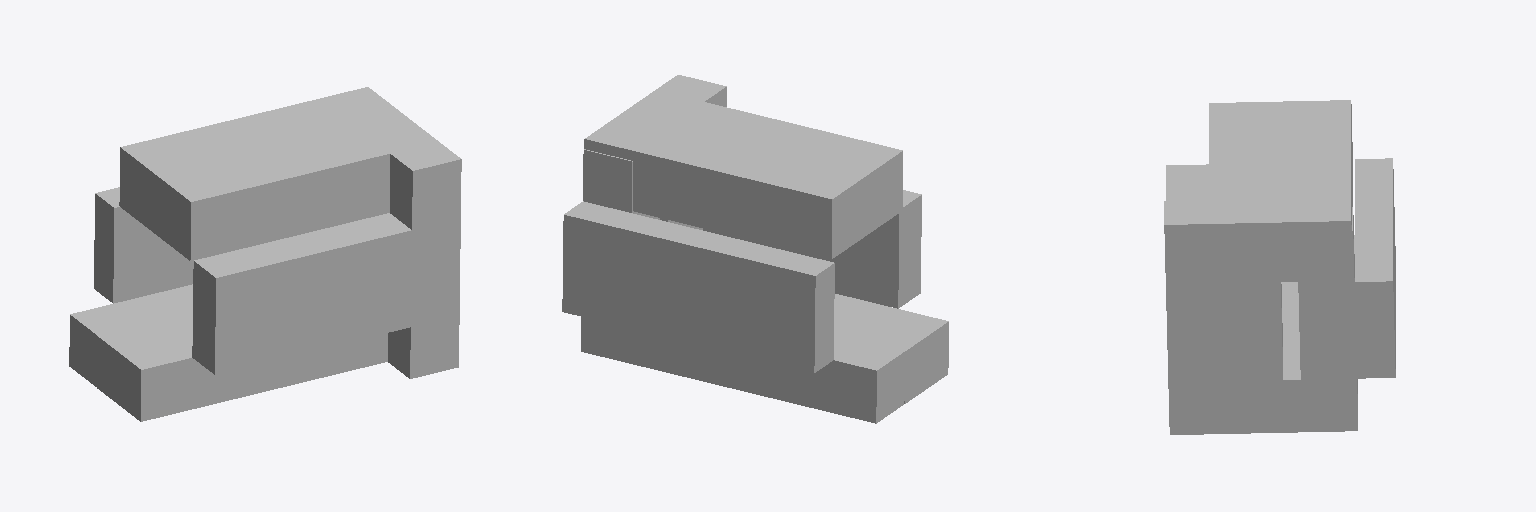
Rendered from dock4_0.obj.
The picture shows the model from 3 angles: view 1: azimuth 30°, elevation 25°; view 2: azimuth 150°, elevation 25°; view 3: azimuth 270°, elevation 25°; orthographic projection.
Parts seen in each view (by area): view 1: Cube; view 2: Cube; view 3: Cube.
Boxes of the visible parts, x1=… form: Cube: x1=69, y1=87, x2=461, y2=421; Cube: x1=562, y1=75, x2=948, y2=423; Cube: x1=1164, y1=100, x2=1395, y2=434.
Size of the model in its own units: 4.2 by 2.91 by 2.85.